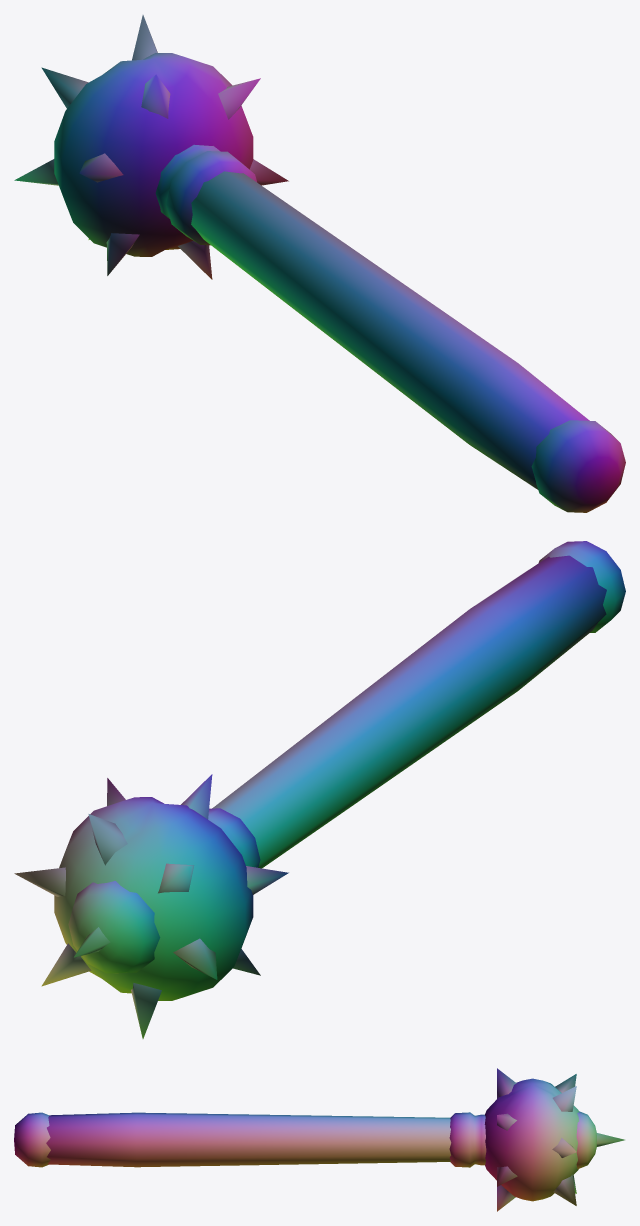
Rendered from SM_Weapon_Mace.fbx.
3 views of the same model, one above another, from view 1: azimuth 30°, elevation 25°; view 2: azimuth 150°, elevation 25°; view 3: azimuth 270°, elevation 25° (orthographic). The views are drawn at different scales.
Visible parts, largest first — view 1: SM_Weapon_Mace; view 2: SM_Weapon_Mace; view 3: SM_Weapon_Mace.
Part boxes in pixels (x1,y1,x2,y2): SM_Weapon_Mace: (14,15,625,512); SM_Weapon_Mace: (14,541,625,1038); SM_Weapon_Mace: (14,1068,624,1211).
Bounding box in the file's own units: 0.191 × 0.191 × 0.8284.
